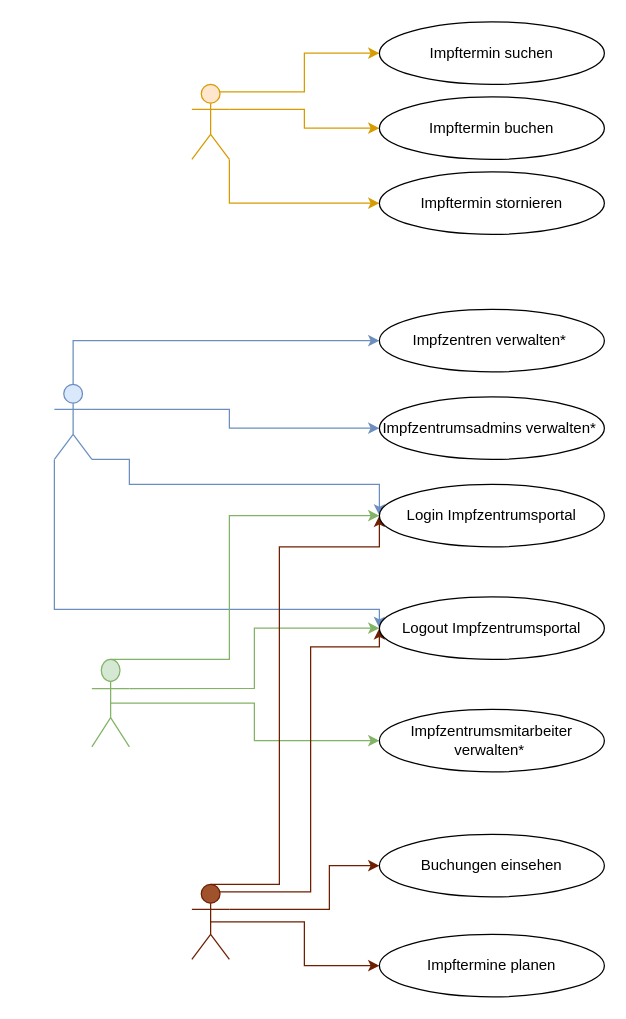
Image size: 626x1019. Some labels were removed from this diagram. Here are the shapes that lost their labels. From the top down, the centre of each, then its label:
At [210,121]: "Patient".
At [72,421]: "zentraler Admin".
At [110,702]: "Zentrumsadmin".
At [210,921]: "Impfzentrumsmitarbeter".
